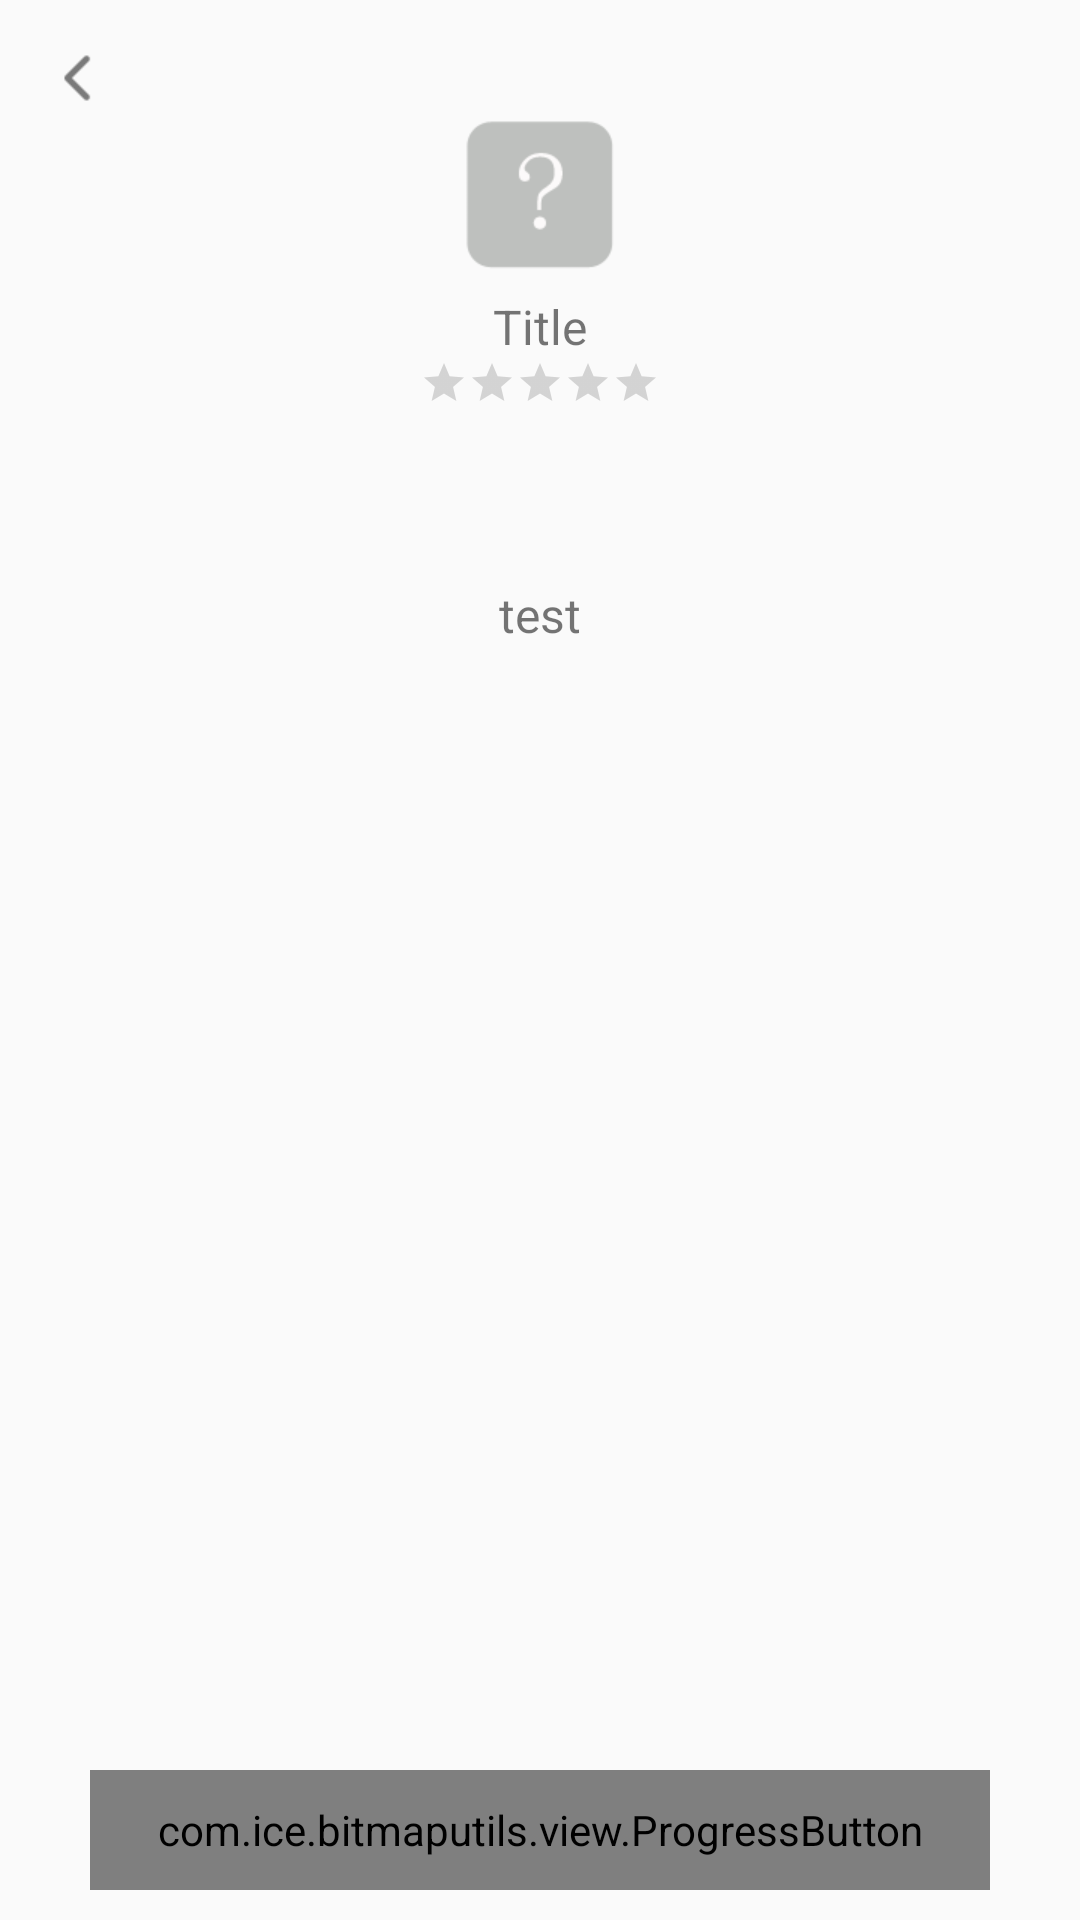

Icons on this 1080px×1920px Android screen, each with its box as (x1, y1, x2, y2):
back: (64, 55, 90, 101)
